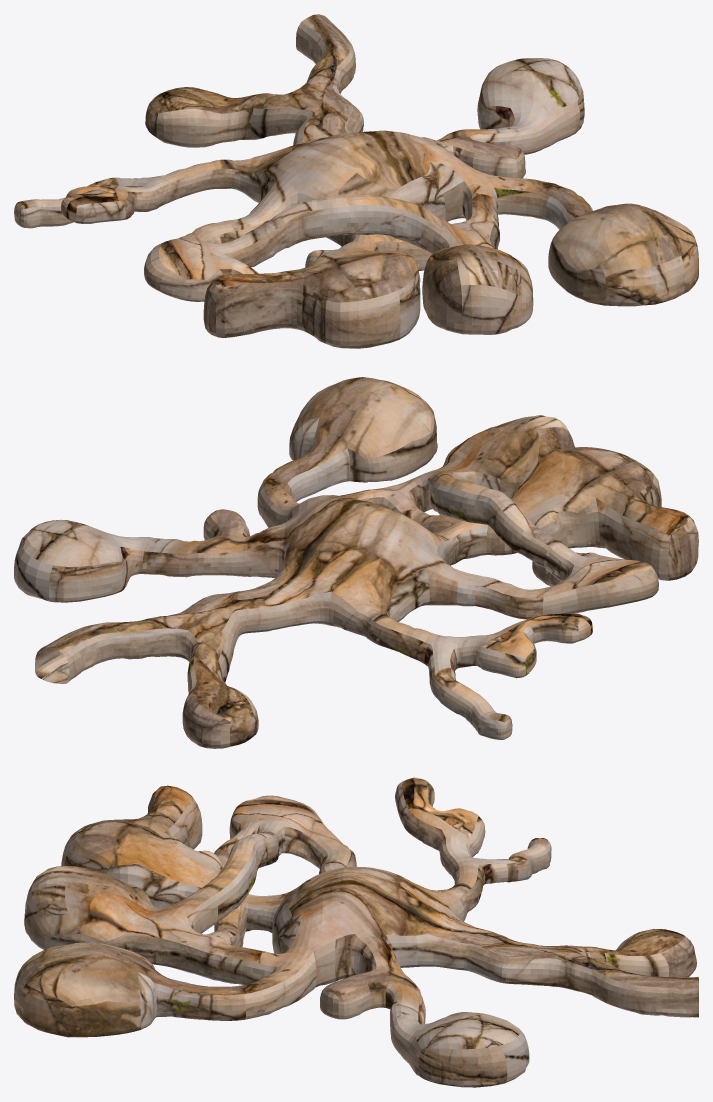
Rendered from Escenario2Retoques.fbx.
3 renders of one model, top to bottom at view 1: azimuth 30°, elevation 25°; view 2: azimuth 150°, elevation 25°; view 3: azimuth 270°, elevation 25°, orthographic. The views are drawn at different scales.
Visible parts, largest first — view 1: Escenario2FINAL; view 2: Escenario2FINAL; view 3: Escenario2FINAL.
Part boxes in pixels (x1,y1,x2,y2): Escenario2FINAL: (14,14,698,348); Escenario2FINAL: (14,377,698,748); Escenario2FINAL: (14,777,698,1087).
Size of the model in its own units: 155 by 30.53 by 175.
